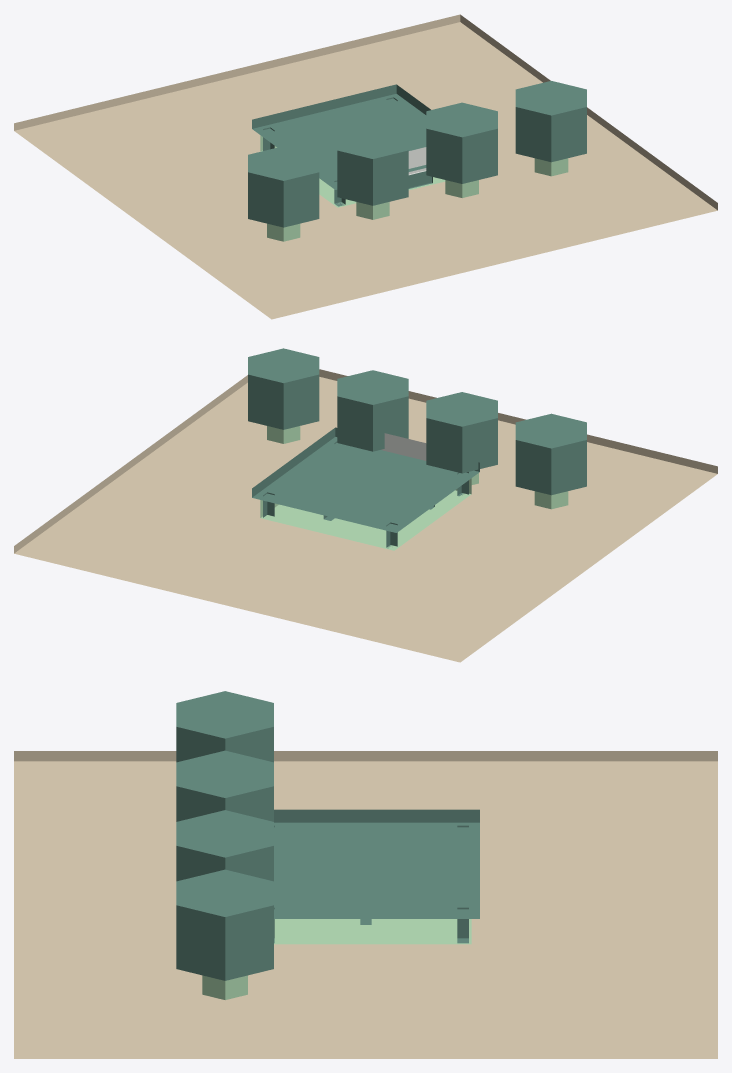
File: park.glb
The picture shows the model from 3 angles, top to bottom: view 1: azimuth 30°, elevation 25°; view 2: azimuth 150°, elevation 25°; view 3: azimuth 270°, elevation 25°; orthographic projection. The views are drawn at different scales.
Parts seen in each view (by area): view 1: Foundation, Details, Roof, Walls; view 2: Foundation, Details, Roof, Walls, Frame; view 3: Foundation, Details, Roof, Walls.
Part boxes in pixels (x1,y1,x2,y2): Foundation: (14,14,717,319); Details: (248,81,586,241); Roof: (252,84,430,189); Walls: (260,135,445,207); Foundation: (14,369,717,662); Details: (248,348,586,509); Roof: (252,427,479,532); Walls: (260,478,471,550); Frame: (263,441,468,548); Foundation: (14,751,717,1058); Details: (176,691,273,999); Roof: (274,809,479,918); Walls: (274,919,471,944).
Bounding box in the file's own units: 40 × 6.65 × 40.
